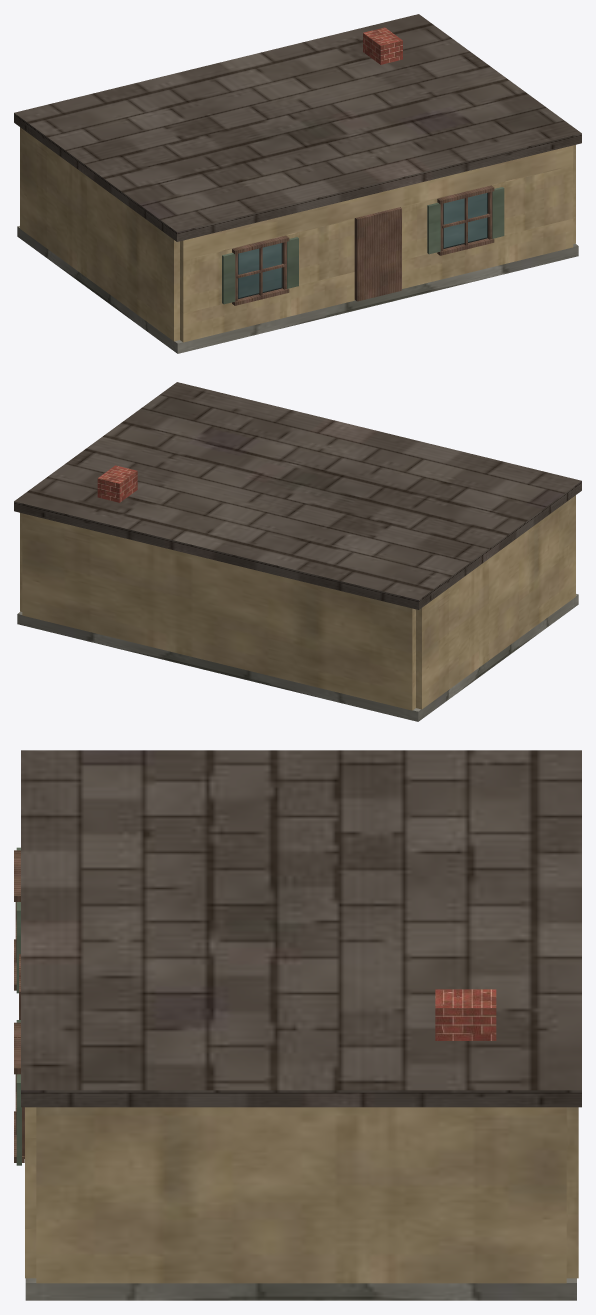
Rendered from two-room-building.glb.
3 views of the same model, one above another, from view 1: azimuth 30°, elevation 25°; view 2: azimuth 150°, elevation 25°; view 3: azimuth 270°, elevation 25° (orthographic). The views are drawn at different scales.
Parts seen in each view (by area): view 1: Zweiraumgebäude; view 2: Zweiraumgebäude; view 3: Zweiraumgebäude.
Boxes of the visible parts, x1,y1,x2,y2 form: Zweiraumgebäude: (14,14,581,353); Zweiraumgebäude: (14,382,581,721); Zweiraumgebäude: (14,750,581,1300).
Bounding box in the file's own units: 9.86 × 3.32 × 6.97.
1 material, 1 textured.
